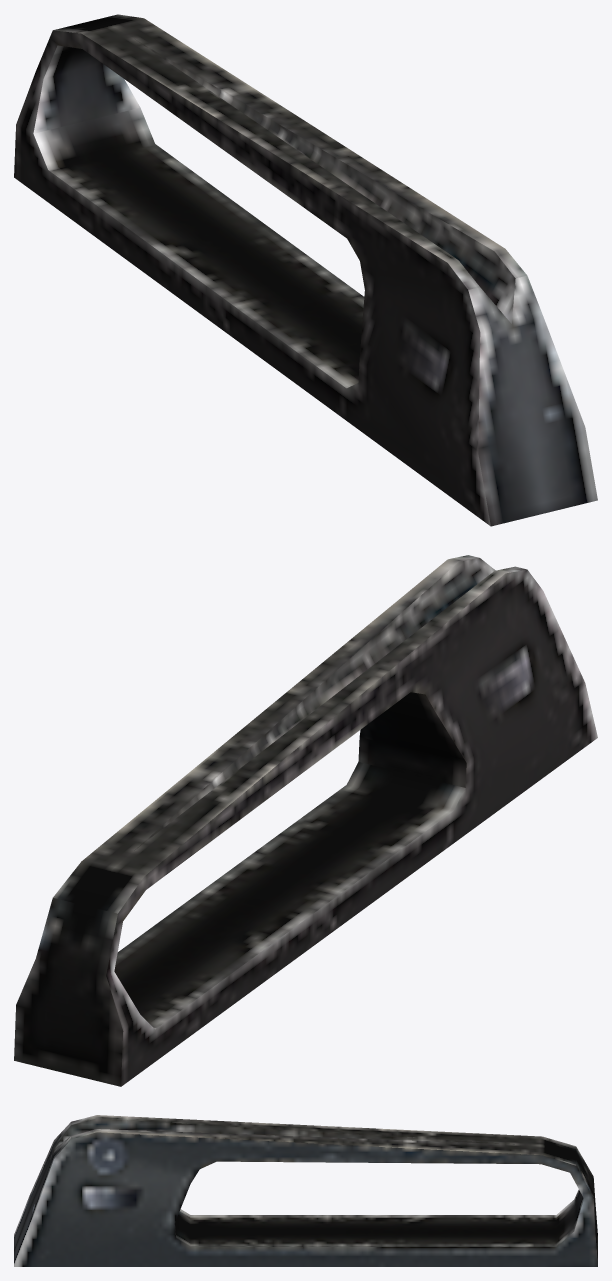
File: M4_Carryhandle.fbx
The picture shows the model from 3 angles, top to bottom: view 1: azimuth 30°, elevation 25°; view 2: azimuth 150°, elevation 25°; view 3: azimuth 270°, elevation 25°; orthographic projection. The views are drawn at different scales.
Visible parts, largest first — view 1: M4_Carryhandle.001; view 2: M4_Carryhandle.001; view 3: M4_Carryhandle.001.
Boxes of the visible parts, <box> form: M4_Carryhandle.001: <box>14,14,597,526</box>; M4_Carryhandle.001: <box>14,555,597,1086</box>; M4_Carryhandle.001: <box>14,1115,597,1266</box>.
Bounding box in the file's own units: 0.0139 × 0.1073 × 0.0258.
